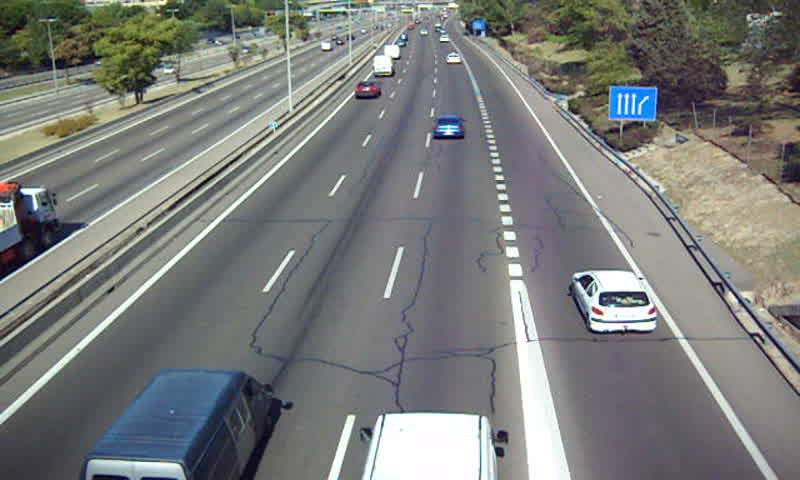car: (571, 269, 658, 334), (430, 114, 467, 140), (353, 80, 380, 99)
van: (82, 370, 272, 480), (371, 54, 395, 78)
